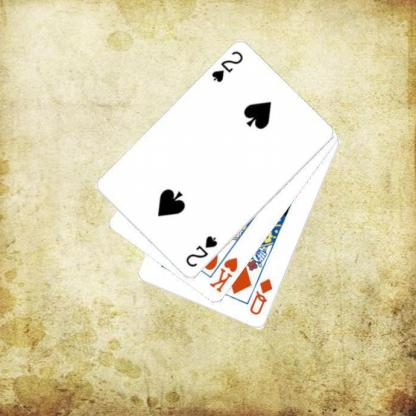2S: (183, 233, 219, 269), (209, 48, 244, 84)
KH: (207, 254, 239, 295)
QD: (247, 276, 274, 316)
